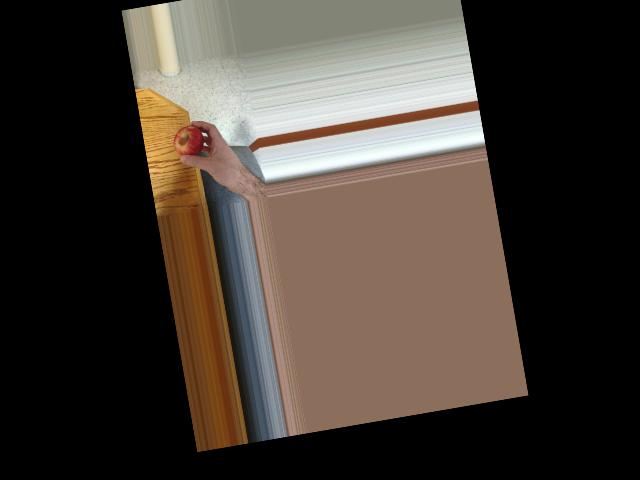apple: (172, 122, 209, 161)
